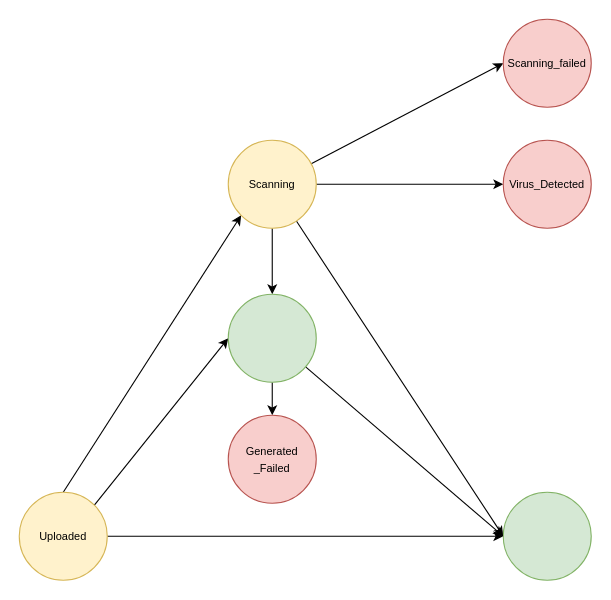
The diagram is 611 pixels wide and 600 high, and some of its shapes have lost their labels. Here are the shapes that lost their labels. From the top down, the centre of each, then its label:
point (271, 337): Thumbnail _Generating
point (546, 535): Ready_for_use
